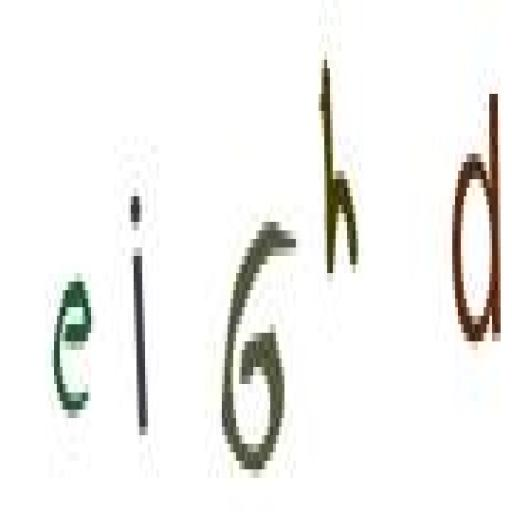6: (212, 194, 304, 490)
d: (448, 85, 506, 364)
e: (48, 259, 98, 425)
h: (316, 54, 364, 293)
i: (126, 186, 157, 447)
